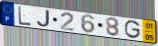2: (59, 12, 76, 33)
6: (80, 15, 96, 35)
8: (105, 17, 121, 37)
G: (124, 20, 142, 40)
J: (36, 9, 51, 28)
L: (18, 5, 32, 27)
